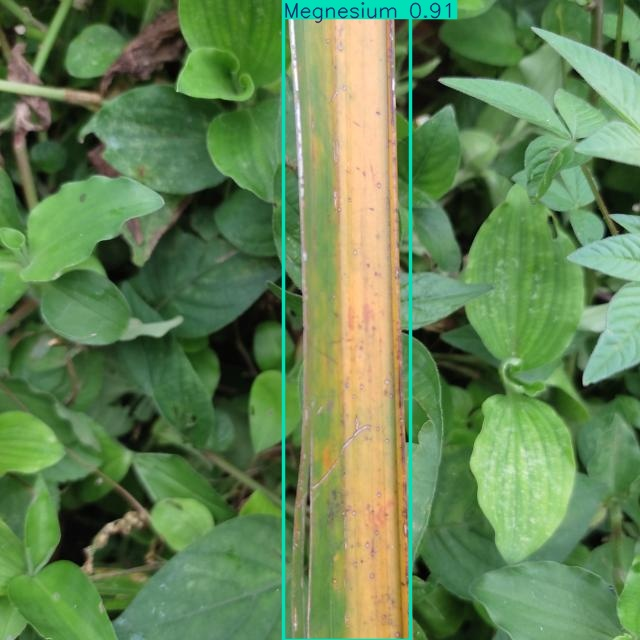Megnesium: (283, 0, 410, 640)
